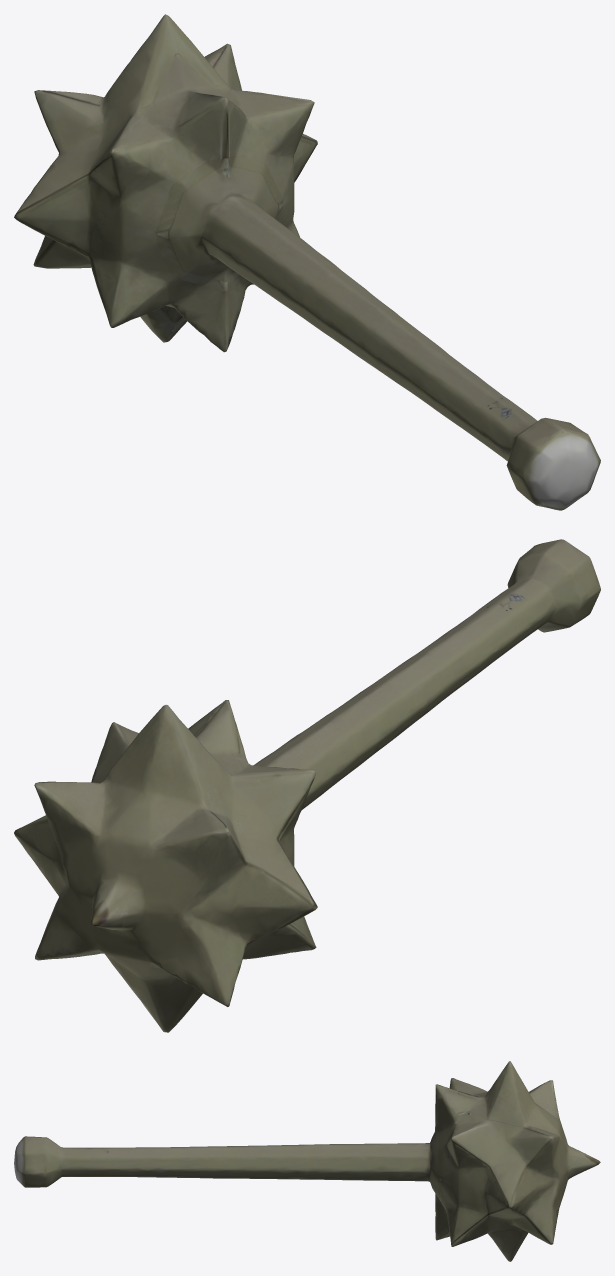
Rendered from Spiked_Mace_1001094403_texture.fbx.
The picture shows the model from 3 angles, top to bottom: view 1: azimuth 30°, elevation 25°; view 2: azimuth 150°, elevation 25°; view 3: azimuth 270°, elevation 25°; orthographic projection. The views are drawn at different scales.
Visible parts, largest first — view 1: Mesh1.0; view 2: Mesh1.0; view 3: Mesh1.0.
Boxes of the visible parts, x1,y1,x2,y2 form: Mesh1.0: (14,14,600,510); Mesh1.0: (14,539,600,1032); Mesh1.0: (14,1061,600,1261).
Size of the model in its own units: 73.38 by 75.68 by 201.
Materials: 1 (1 with a texture image).
